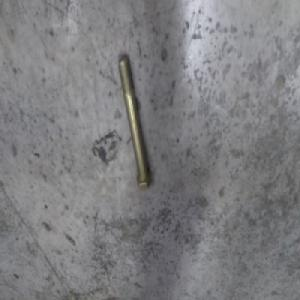Bolt: (121, 54, 154, 188)
